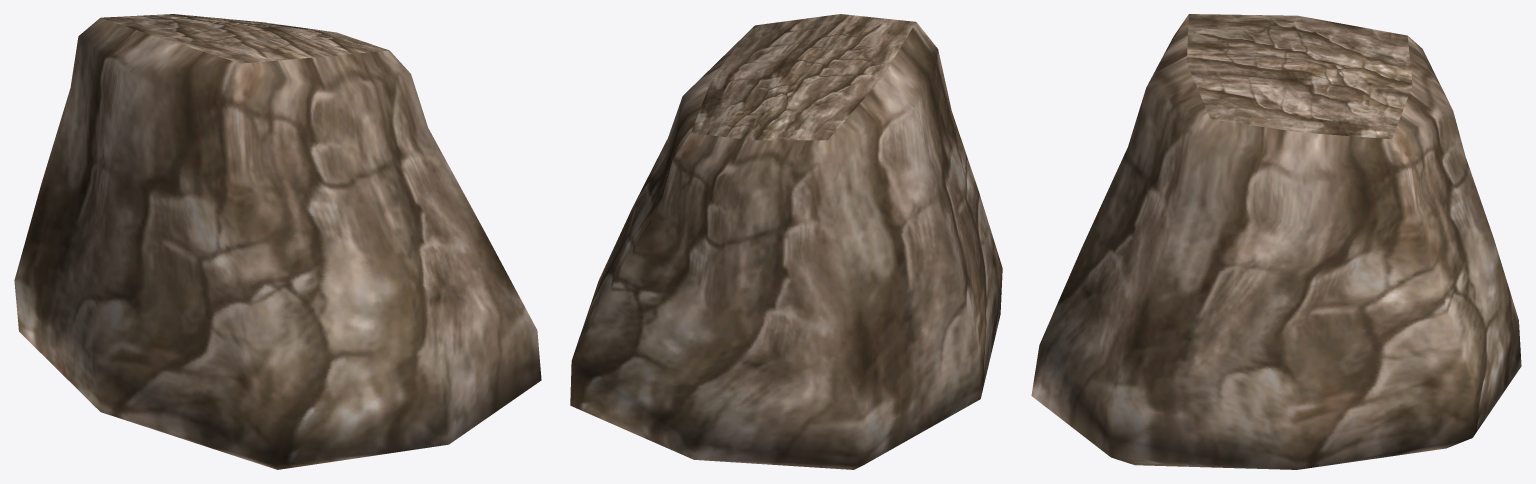
Rendered from INST_EKH_ROCKENTA.fbx.
The picture shows the model from 3 angles, left to right: view 1: azimuth 30°, elevation 25°; view 2: azimuth 150°, elevation 25°; view 3: azimuth 270°, elevation 25°; orthographic projection. The views are drawn at different scales.
Parts seen in each view (by area): view 1: INST_EKH_ROCKENTA; view 2: INST_EKH_ROCKENTA; view 3: INST_EKH_ROCKENTA.
Part boxes in pixels (box(x1,y1,x2,y2)): INST_EKH_ROCKENTA: box(14, 14, 541, 469); INST_EKH_ROCKENTA: box(570, 14, 1002, 469); INST_EKH_ROCKENTA: box(1031, 14, 1521, 469).
Size of the model in its own units: 22366 by 20746 by 26064.
Materials: 1 (1 with a texture image).
